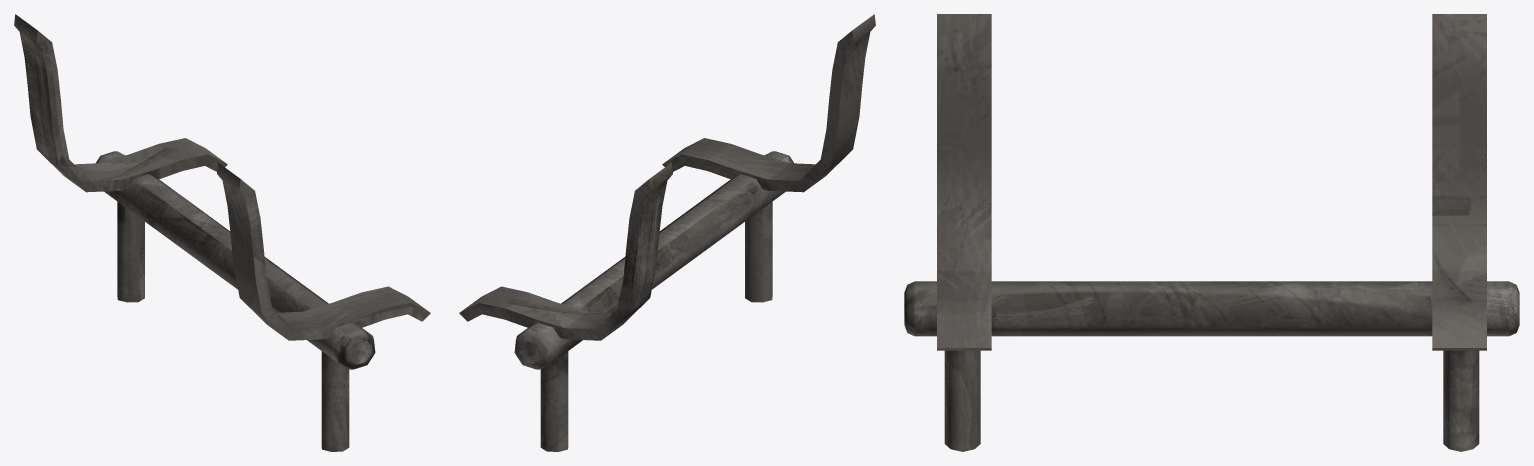
The model's file is bench-support.glb.
The picture shows the model from 3 angles, left to right: view 1: azimuth 30°, elevation 25°; view 2: azimuth 150°, elevation 25°; view 3: azimuth 270°, elevation 25°; orthographic projection. The views are drawn at different scales.
Parts seen in each view (by area): view 1: Bench Support; view 2: Bench Support; view 3: Bench Support.
Part boxes in pixels (x1,y1,x2,y2): Bench Support: [14, 14, 430, 451]; Bench Support: [459, 14, 875, 451]; Bench Support: [904, 14, 1519, 451].
Size of the model in its own units: 0.5876 by 0.8813 by 1.34.
1 material, 1 textured.
